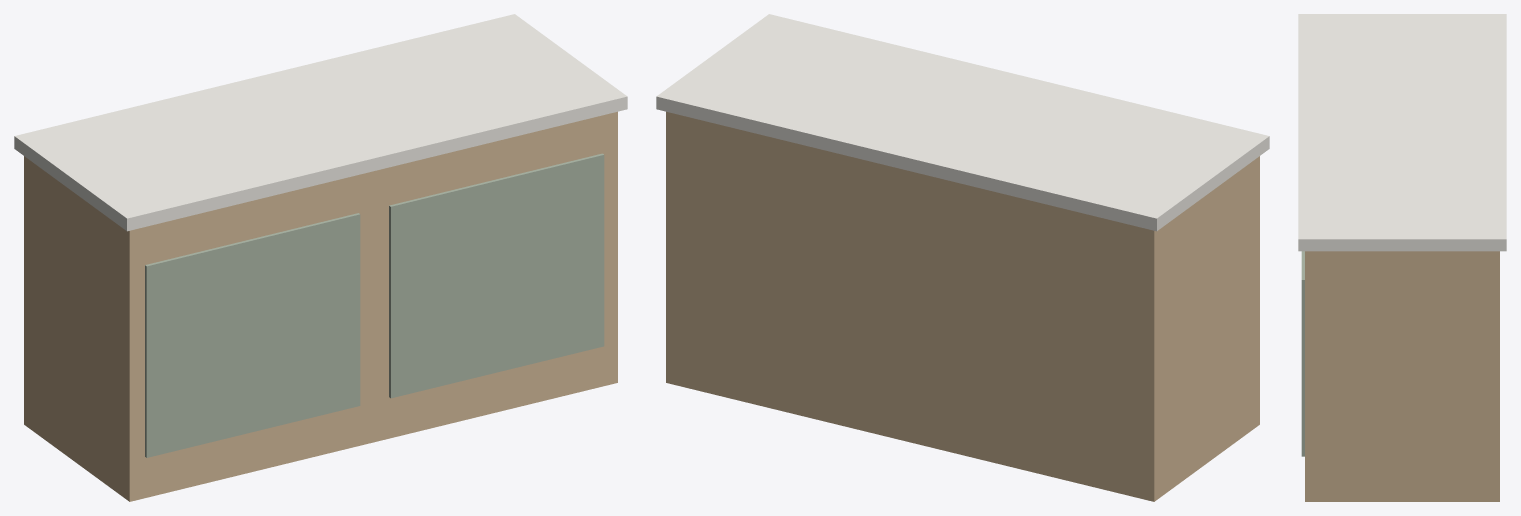
The model's file is kitchen-cab.glb.
3 renders of one model, left to right at view 1: azimuth 30°, elevation 25°; view 2: azimuth 150°, elevation 25°; view 3: azimuth 270°, elevation 25°, orthographic. The views are drawn at different scales.
Visible parts, largest first — view 1: root; view 2: root; view 3: root.
Boxes of the visible parts, x1,y1,x2,y2 form: root: (14,14,627,501); root: (656,14,1269,501); root: (1298,14,1506,501).
Bounding box in the file's own units: 1.64 × 0.9 × 0.64.
